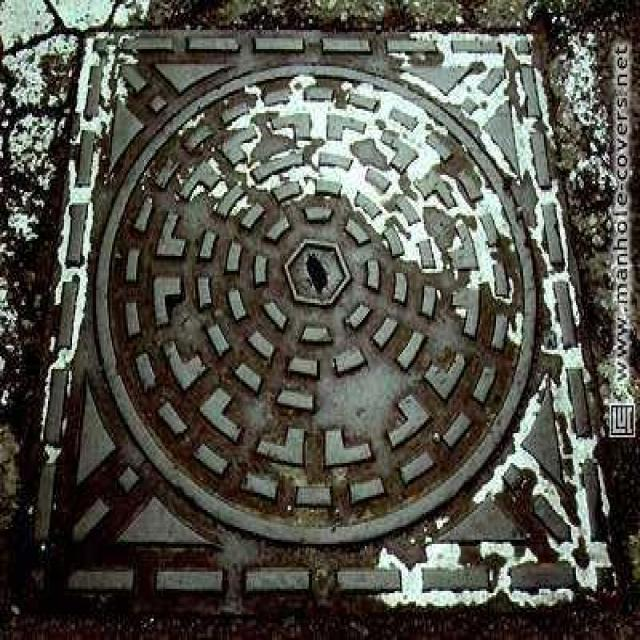manhole: (26, 0, 610, 616)
